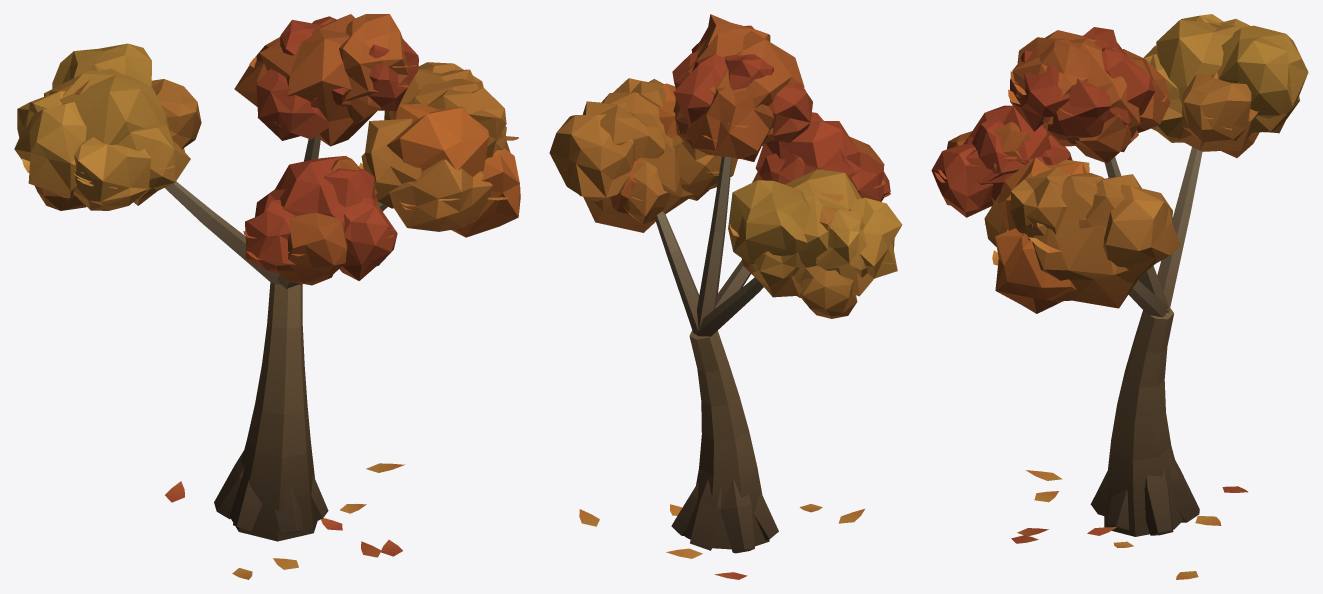
Rendered from autumn_maple_01.glb.
3 renders of one model, left to right at view 1: azimuth 30°, elevation 25°; view 2: azimuth 150°, elevation 25°; view 3: azimuth 270°, elevation 25°, orthographic. The views are drawn at different scales.
Visible parts, largest first — view 1: autumn_maple_01; view 2: autumn_maple_01; view 3: autumn_maple_01.
Part boxes in pixels (left/top/right/bottom): autumn_maple_01: left=14, top=14, right=520, bottom=579; autumn_maple_01: left=549, top=14, right=902, bottom=579; autumn_maple_01: left=931, top=14, right=1308, bottom=579.
Size of the model in its own units: 3.17 by 3.86 by 2.62.
